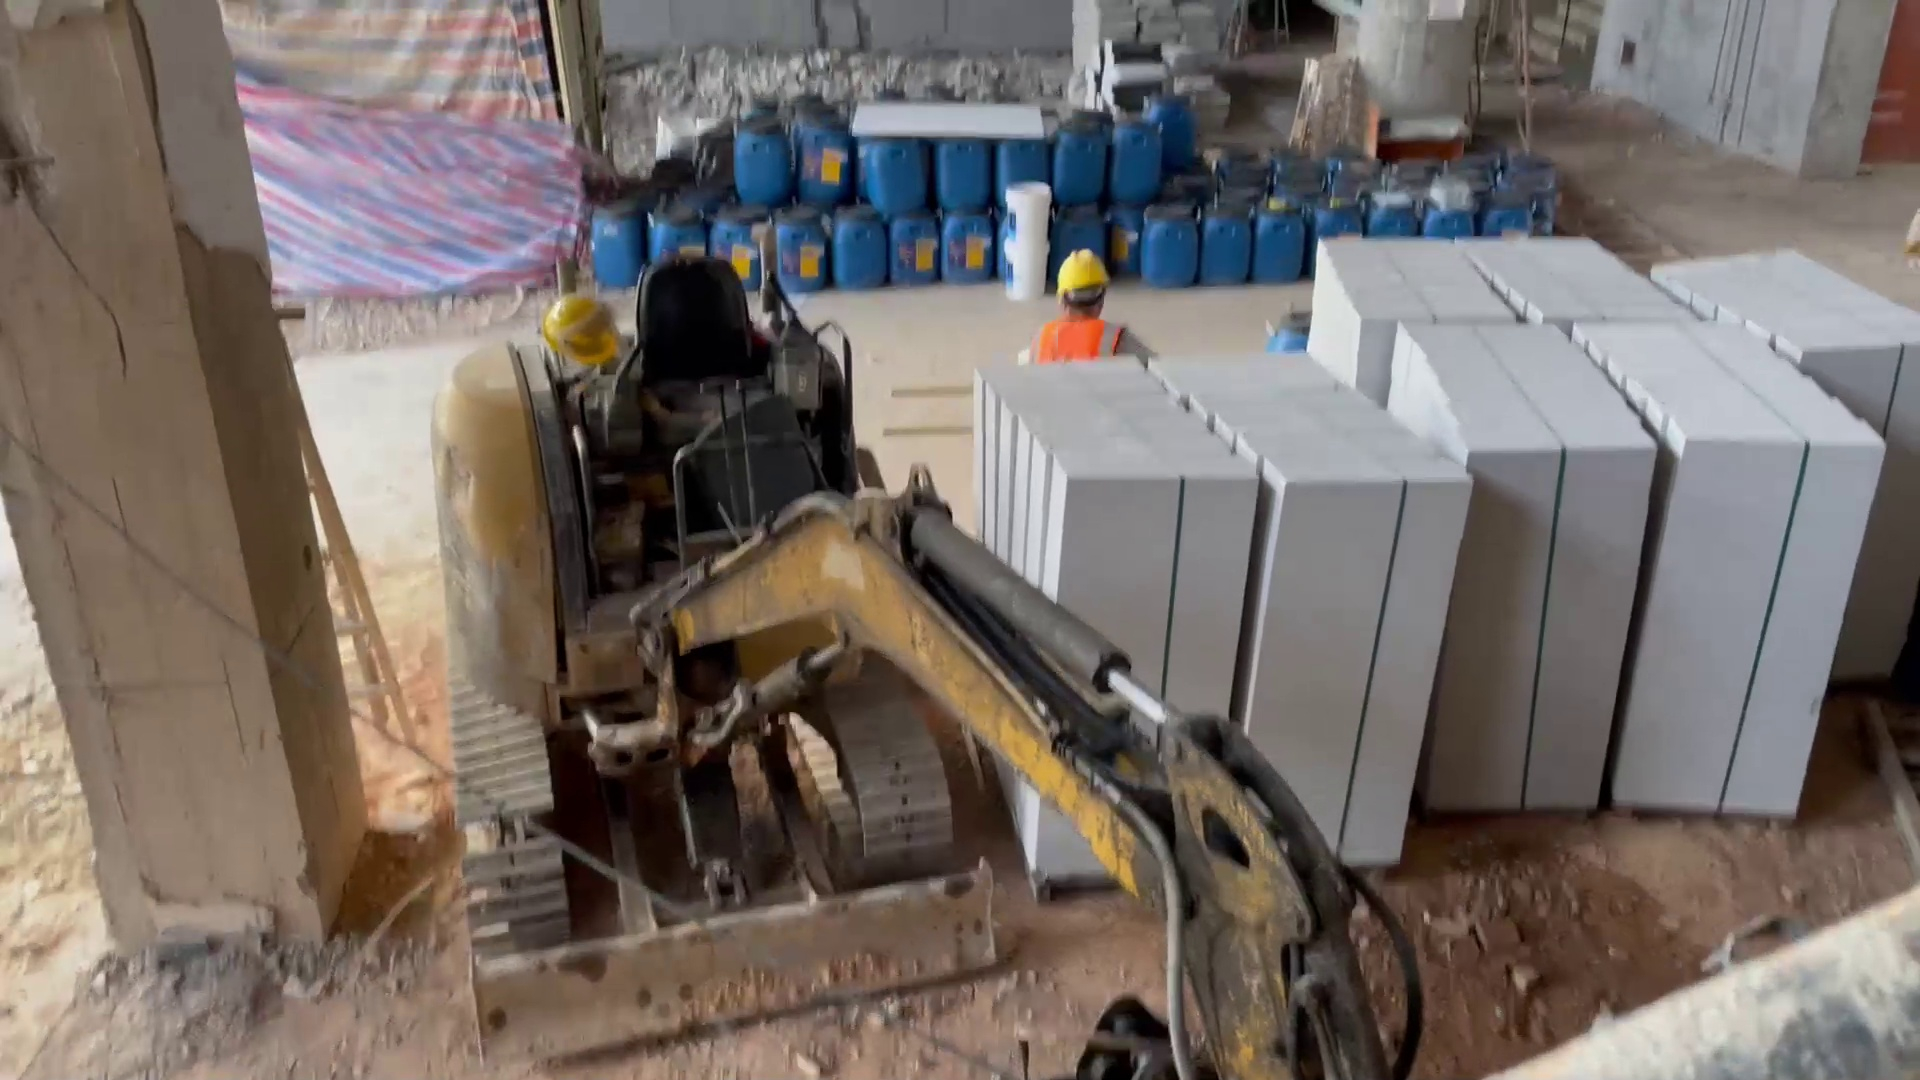helmet: (542, 289, 625, 364), (1055, 249, 1108, 295)
person: (1034, 243, 1147, 376)
vest: (1033, 311, 1126, 364)
